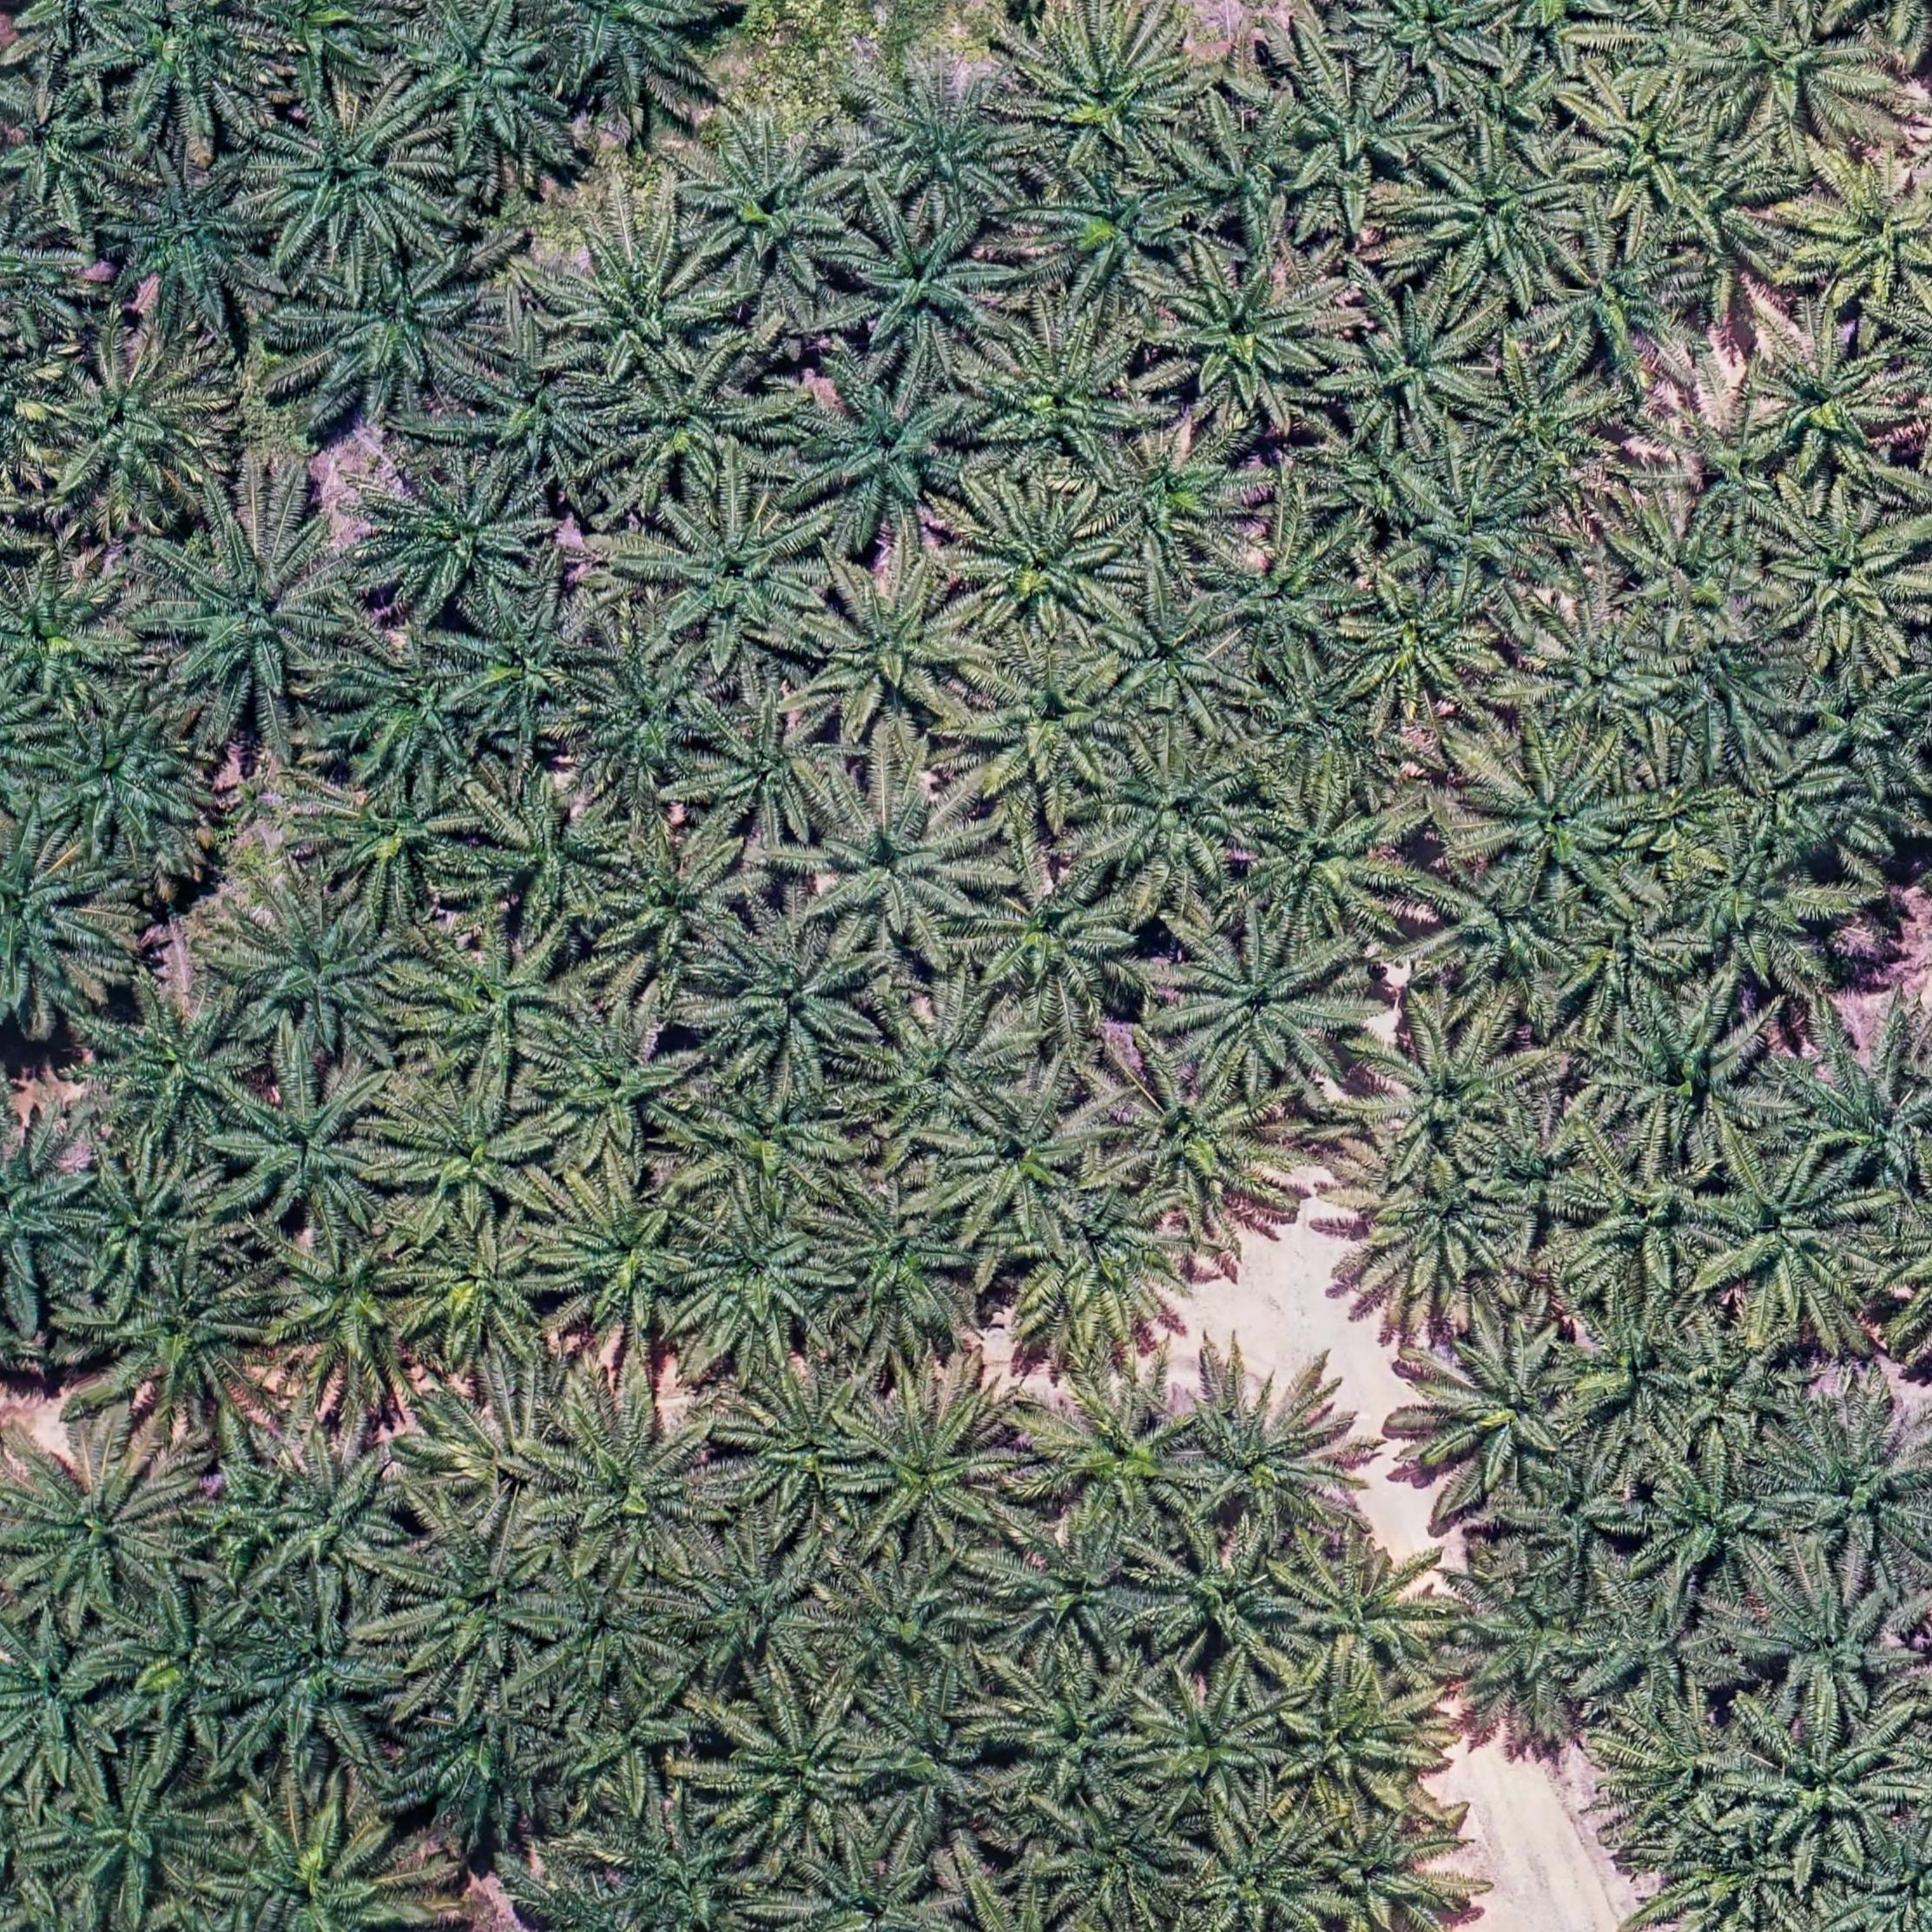palmtree: (527, 1384, 732, 1583), (145, 518, 345, 724), (2, 1431, 202, 1619), (218, 1592, 414, 1780), (1589, 989, 1789, 1173), (1007, 1175, 1201, 1361), (226, 883, 423, 1067), (1693, 1150, 1886, 1336), (1100, 1051, 1299, 1231), (1175, 1368, 1366, 1553), (1412, 1315, 1598, 1502), (1169, 916, 1366, 1093), (1332, 1145, 1532, 1316), (805, 775, 994, 954), (642, 490, 833, 667), (690, 913, 881, 1088), (88, 1258, 280, 1433), (803, 561, 991, 738), (39, 343, 228, 518), (1155, 249, 1341, 425), (1023, 1376, 1210, 1550), (1401, 134, 1592, 304), (1362, 1007, 1555, 1175), (846, 1380, 1028, 1557), (258, 94, 442, 265), (794, 370, 978, 541), (1465, 738, 1649, 908), (1732, 1704, 1918, 1872), (255, 1223, 428, 1401), (966, 853, 1146, 1024), (301, 251, 492, 412), (959, 648, 1143, 814), (812, 1180, 984, 1355), (685, 124, 860, 295), (1757, 1407, 1932, 1578), (671, 1196, 847, 1366), (202, 1799, 428, 1932), (1019, 14, 1201, 179), (717, 1691, 890, 1863), (839, 212, 1019, 377), (1444, 1564, 1612, 1739), (223, 1070, 400, 1237), (941, 1077, 1120, 1242), (1757, 492, 1927, 663), (94, 984, 269, 1150), (48, 1752, 226, 1914), (35, 697, 216, 858), (971, 322, 1155, 479), (1644, 616, 1810, 789), (531, 1003, 706, 1168), (672, 1530, 847, 1695), (1233, 782, 1414, 941), (407, 924, 587, 1083), (552, 228, 734, 386), (389, 1520, 559, 1688), (379, 1077, 557, 1237), (1088, 736, 1265, 895), (853, 991, 1035, 1145), (543, 1175, 706, 1346), (1276, 1665, 1453, 1822), (724, 1364, 886, 1534), (1665, 830, 1838, 989), (1143, 1525, 1318, 1683), (370, 464, 550, 616), (1707, 0, 1890, 150), (403, 1217, 577, 1375), (987, 1658, 1161, 1813), (1283, 1536, 1460, 1688), (1753, 324, 1914, 490), (1516, 594, 1683, 755), (593, 823, 763, 980), (959, 483, 1131, 639), (387, 1674, 543, 1845), (1744, 1564, 1918, 1718), (991, 1516, 1164, 1670), (1594, 495, 1773, 644), (1276, 41, 1435, 207), (402, 5, 570, 163), (465, 775, 635, 931), (816, 1553, 994, 1700), (1645, 402, 1824, 548), (111, 161, 274, 322), (568, 639, 732, 798), (1329, 290, 1499, 444), (605, 350, 778, 501), (685, 1069, 863, 1214), (260, 1431, 418, 1596), (0, 823, 124, 1031), (856, 1690, 1019, 1847), (108, 1585, 272, 1741), (1127, 1668, 1295, 1821), (64, 1150, 230, 1302), (1633, 1451, 1801, 1601), (1537, 232, 1698, 387), (1782, 1026, 1932, 1192), (313, 773, 487, 916), (518, 1559, 683, 1709), (541, 1675, 711, 1821), (1637, 156, 1798, 308), (690, 695, 855, 844), (1417, 858, 1583, 1005), (1201, 520, 1366, 667), (1030, 170, 1196, 315), (863, 78, 1033, 218), (331, 648, 494, 793), (1790, 149, 1932, 315), (103, 0, 285, 129), (1467, 349, 1621, 499), (0, 1622, 134, 1794), (1548, 1136, 1683, 1307), (1037, 1785, 1200, 1927), (596, 1806, 777, 1932), (455, 587, 605, 736), (1102, 587, 1256, 727), (1249, 653, 1396, 796), (460, 349, 616, 483), (0, 563, 138, 713), (1660, 1320, 1810, 1456), (1575, 1582, 1718, 1723), (1509, 1442, 1651, 1585), (1348, 575, 1493, 713), (1603, 1702, 1732, 1856), (1560, 1300, 1690, 1453), (1100, 435, 1254, 563), (1185, 1812, 1348, 1932), (1307, 1812, 1470, 1932), (0, 1116, 101, 1306), (1573, 76, 1709, 216), (1545, 892, 1672, 1033), (543, 0, 718, 101), (1569, 0, 1734, 104), (1794, 655, 1928, 782), (0, 87, 127, 218), (1182, 119, 1315, 244), (1651, 1828, 1808, 1932), (780, 1844, 961, 1932), (1345, 0, 1507, 96), (249, 0, 398, 94), (0, 214, 97, 354), (1442, 50, 1568, 157), (1318, 421, 1442, 525)
